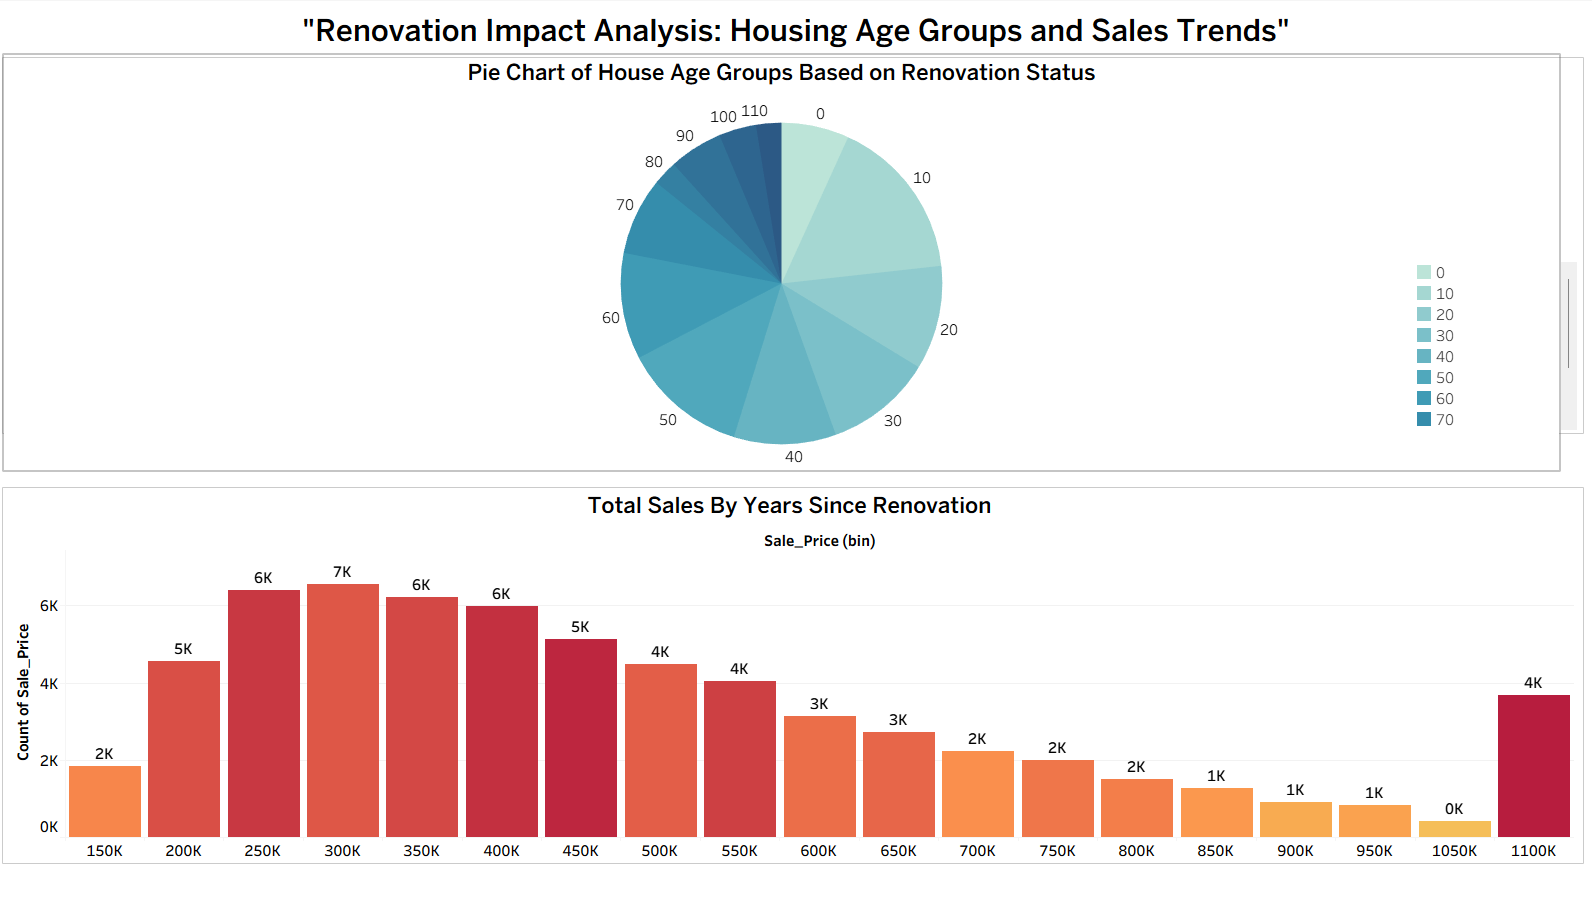

The dashboard page shown, as its layout file describes it:
{"tool":"tableau","page":{"name":"Dashboard 3","canvas":[1600,900],"ordinal":2},"visuals":[{"type":"title","box":[8,8,1584,44]},{"type":"worksheet","title":"Sheet 3","mark":"Pie","box":[8,54,1555.2,415.1]},{"type":"legend","title":"Sheet 3","param":"[federated.10buvhg0ozgo49190819e19qso8p].[none:Age of House (in Years) (bin):ok]","box":[1417.6,261,164.8,167.6]},{"type":"worksheet","title":"Sheet 4","mark":"Bar","rows":["Sale_Price"],"cols":["Sale_Price (bin)"],"box":[8.6,487,1569.2,374]}]}

Visuals, with their boxes in screenshot pixels (x1, y1, x2, y2), scaled from the page's 1600x900 canvas onto the 1592x900 screenshot:
title: {"left": 8, "top": 8, "right": 1584, "bottom": 52}
"Sheet 3" worksheet (Pie marks): {"left": 8, "top": 54, "right": 1555, "bottom": 469}
"Sheet 3" legend: {"left": 1411, "top": 261, "right": 1574, "bottom": 429}
"Sheet 4" worksheet (Bar marks): {"left": 9, "top": 487, "right": 1570, "bottom": 861}
